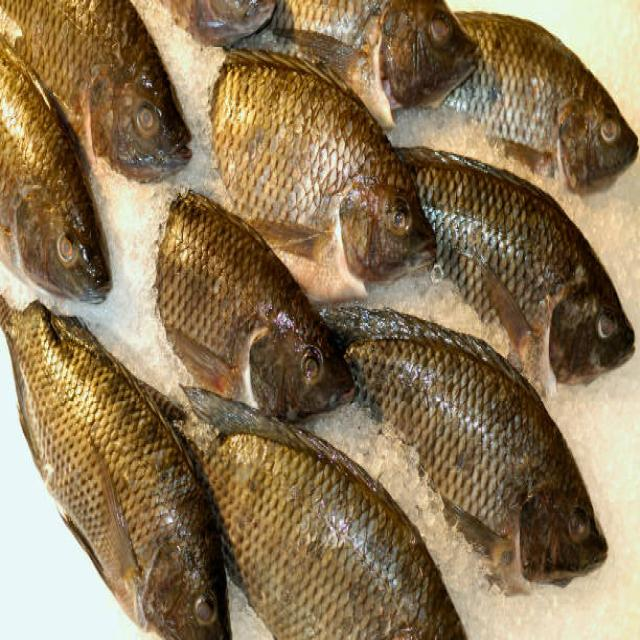Tilapia: (317, 305, 608, 600), (211, 47, 436, 299), (156, 188, 358, 423)
